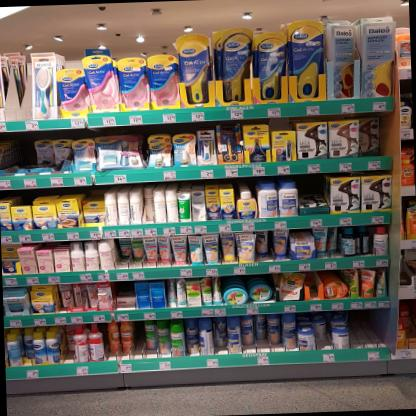empty_space: (348, 308, 388, 361)
